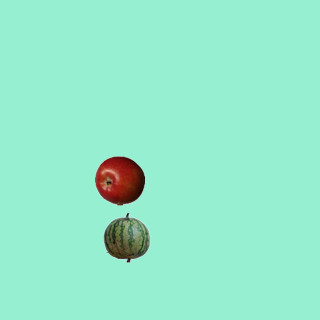Apple Braeburn: (94, 155, 144, 205)
Watermelon: (101, 212, 151, 262)
